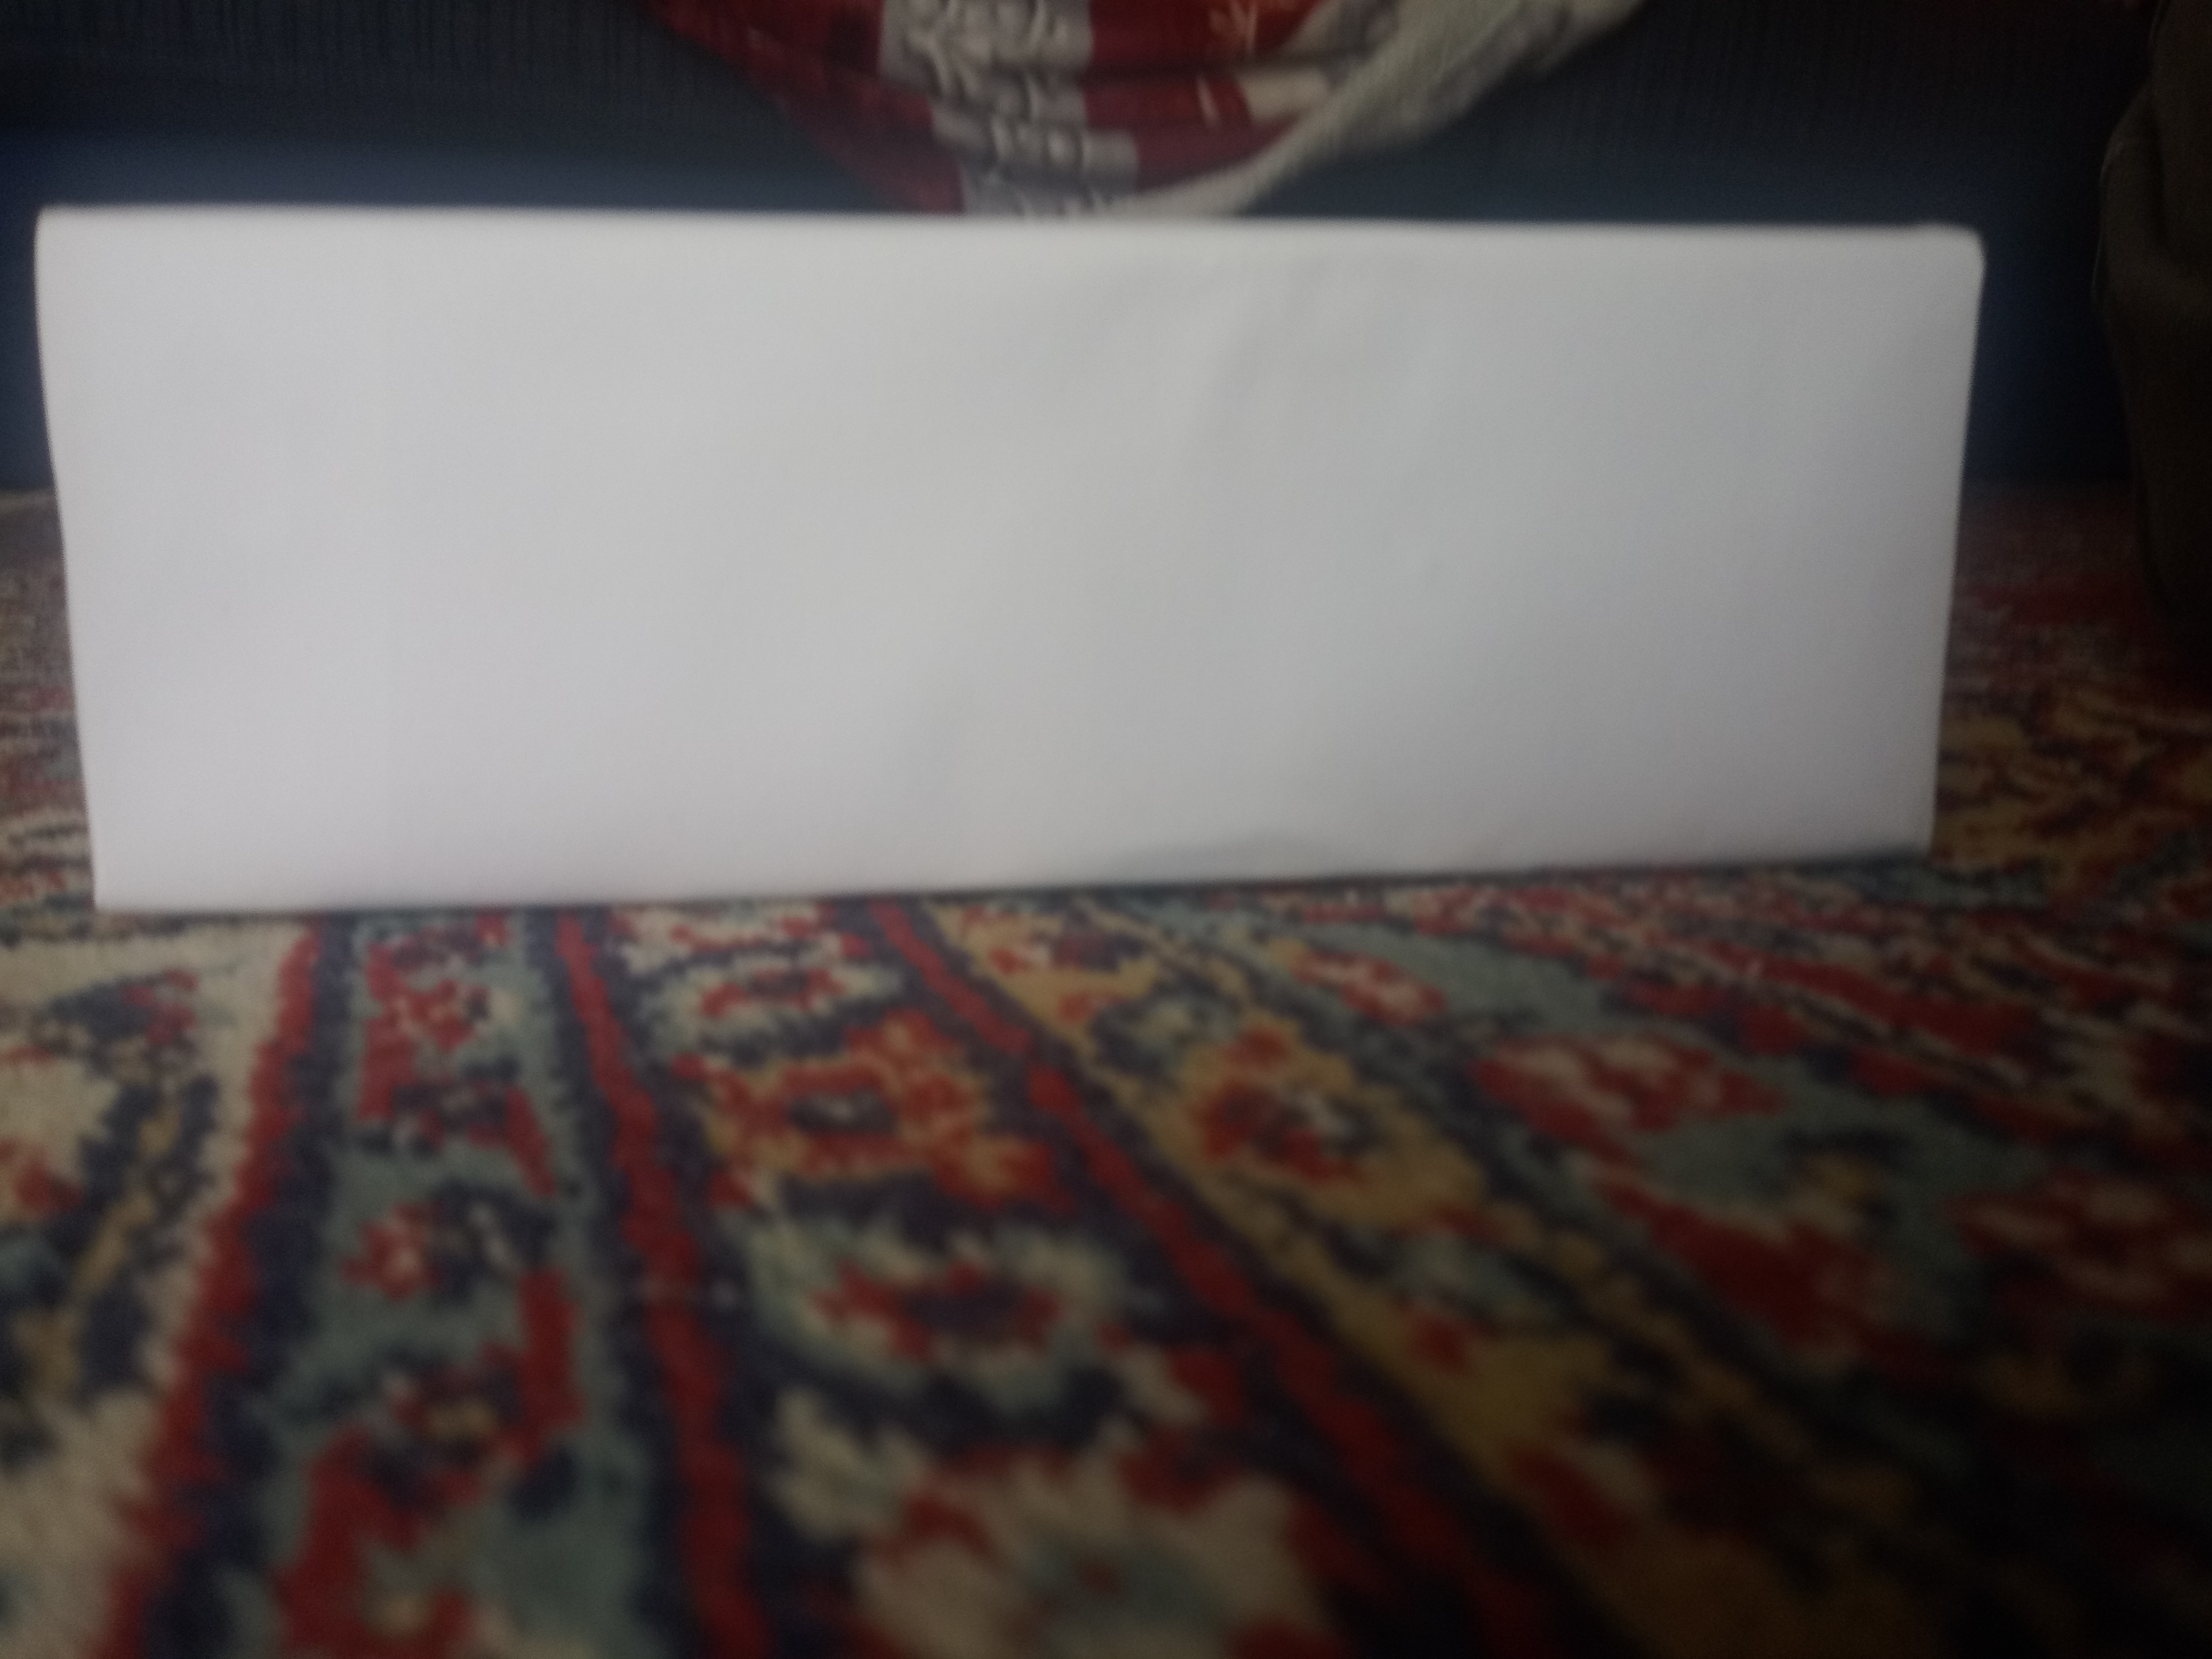white_box: (16, 136, 2019, 958)
